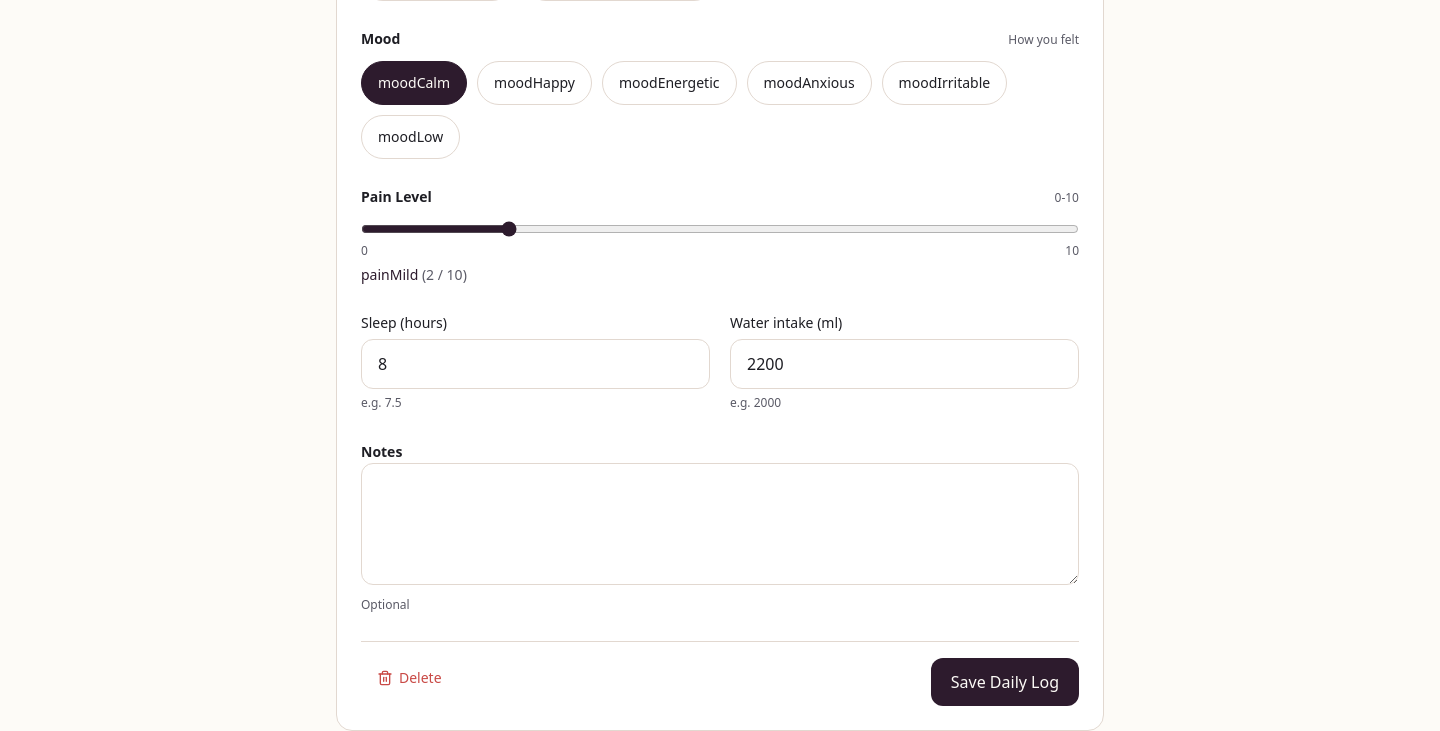
it: DailyHealthPanel UI › shows a delete confirmation and deletes the log
(page scrolled)
Click the button "Delete".
click(409, 678)  # box x1=361 y1=658 x2=458 y2=698
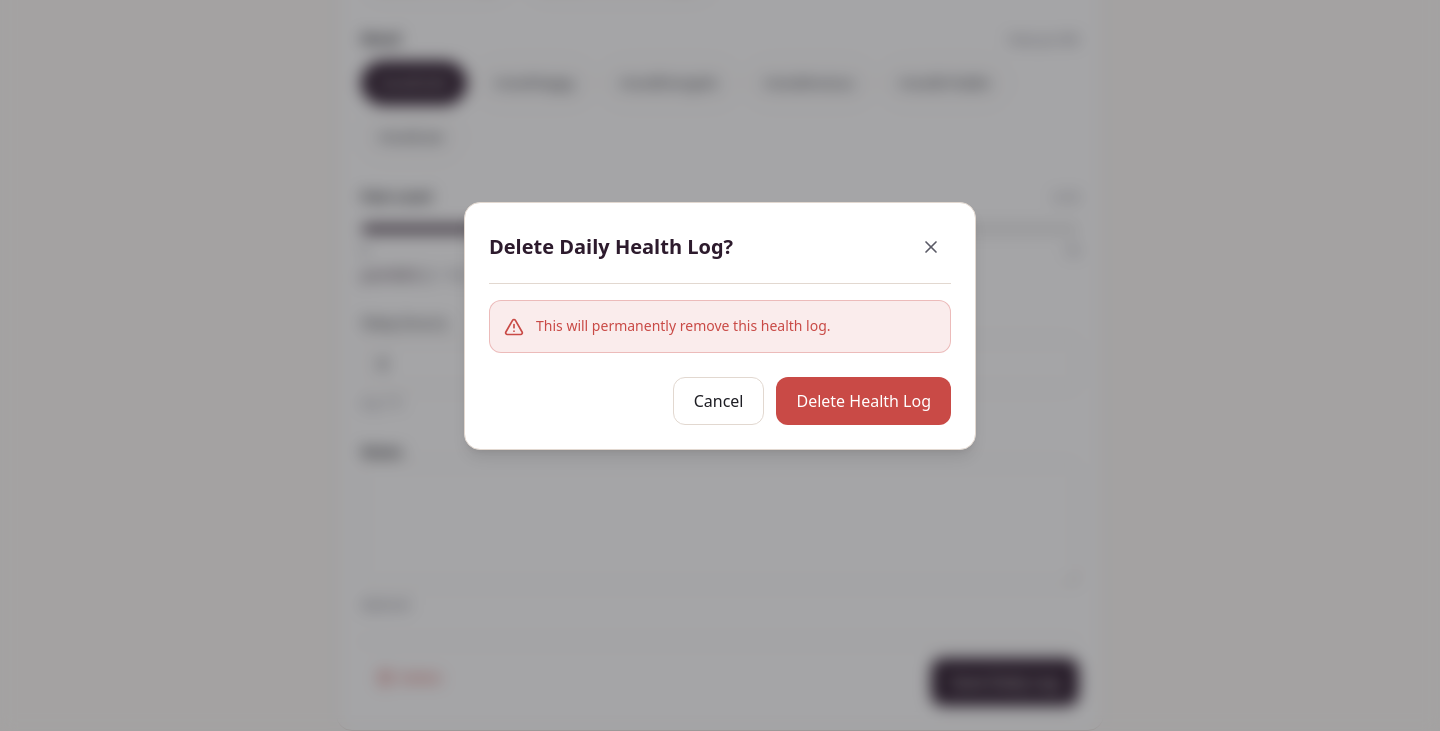
Expected: the heading "Delete Daily Health Log?" is shown, x1=489 y1=233 x2=733 y2=261
Click the button "Delete Health Log".
click(864, 401)  # box x1=776 y1=377 x2=951 y2=425
(page scrolled)
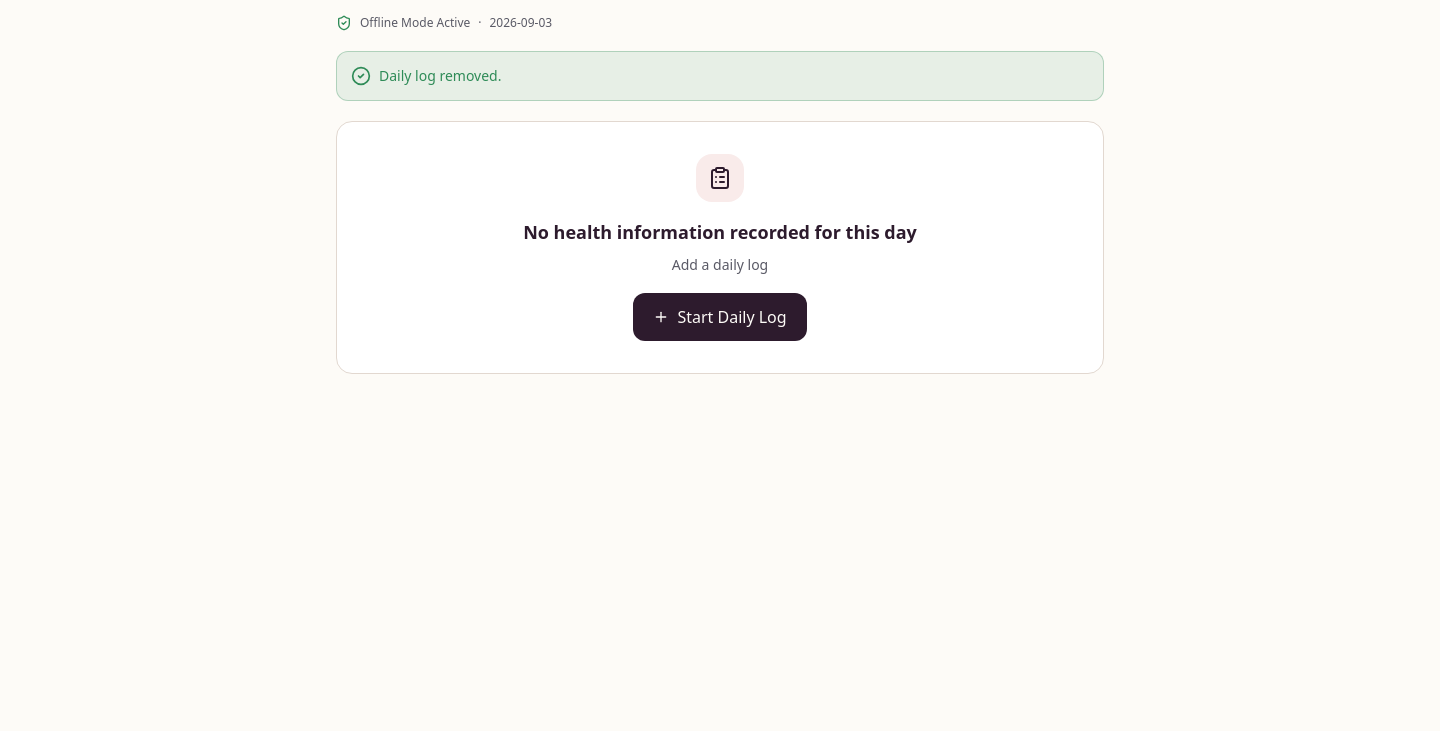
Expected: the heading "No health information recorded for this day" is shown, x1=496 y1=218 x2=944 y2=246
